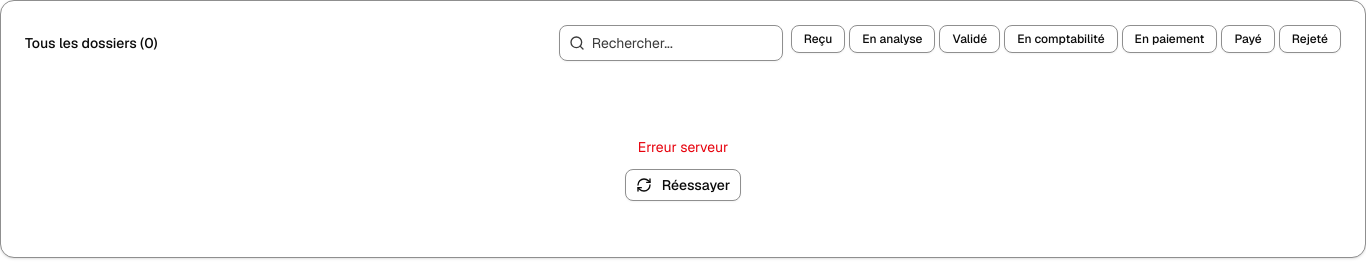
Test: Table des Dossiers — distinction erreur API / liste vide (A-01) › affiche l'erreur de l'API (500) avec relance — jamais « Aucun dossier trouvé »
Expected: the text "Erreur serveur" is shown, [638,138,728,156]
Click the button "Réessayer". click: x=683, y=185
box: [625,169,741,201]
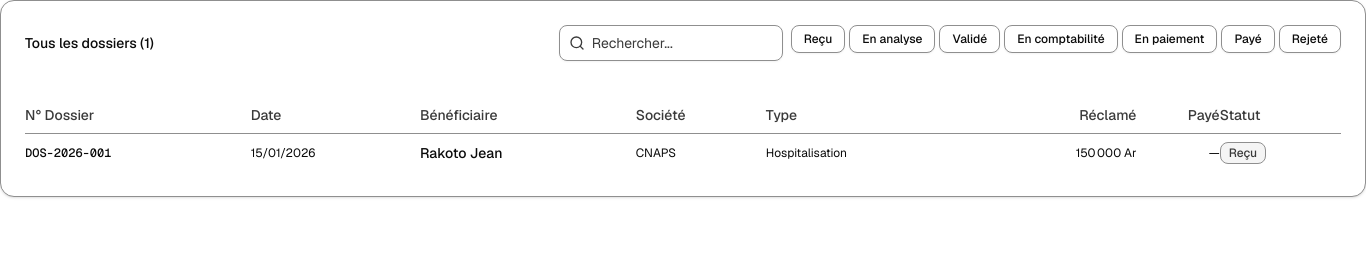
Now the text "DOS-2026-001" is shown, box [25,134,251,172]
